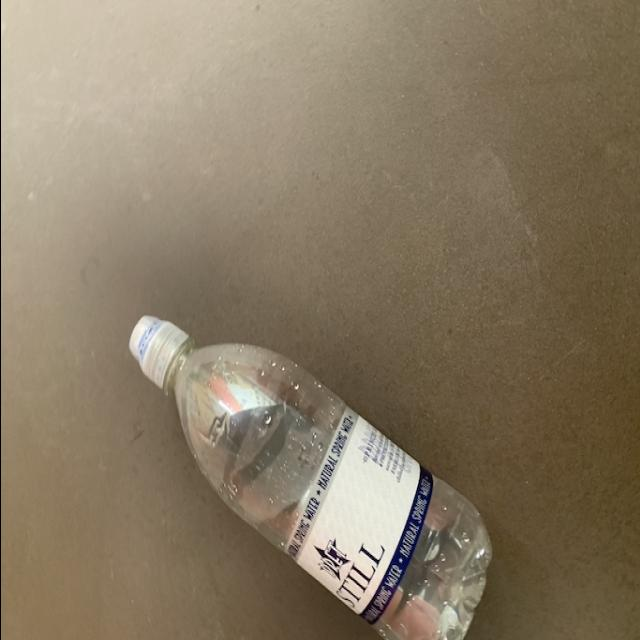PET: (123, 312, 490, 638)
